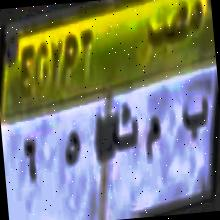5: (58, 119, 88, 174)
6: (17, 127, 45, 192)
baa: (178, 90, 212, 150)
meem: (140, 113, 168, 174)
thaa: (110, 100, 140, 156)
